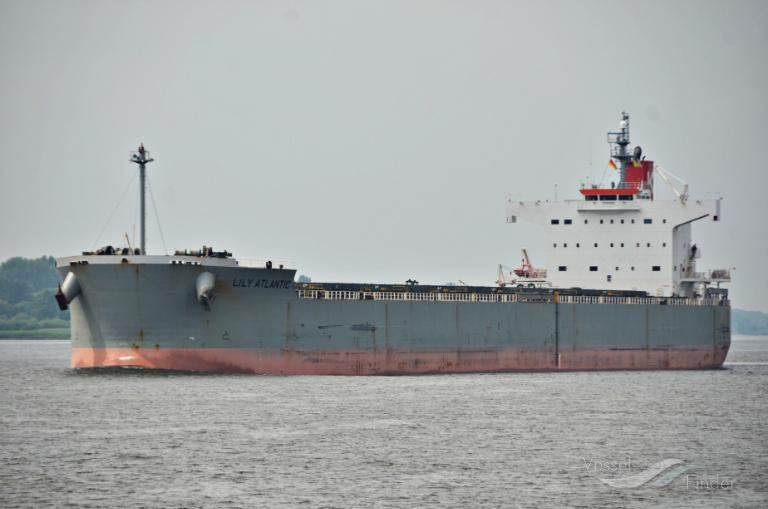OCR: (228, 268, 294, 298)
